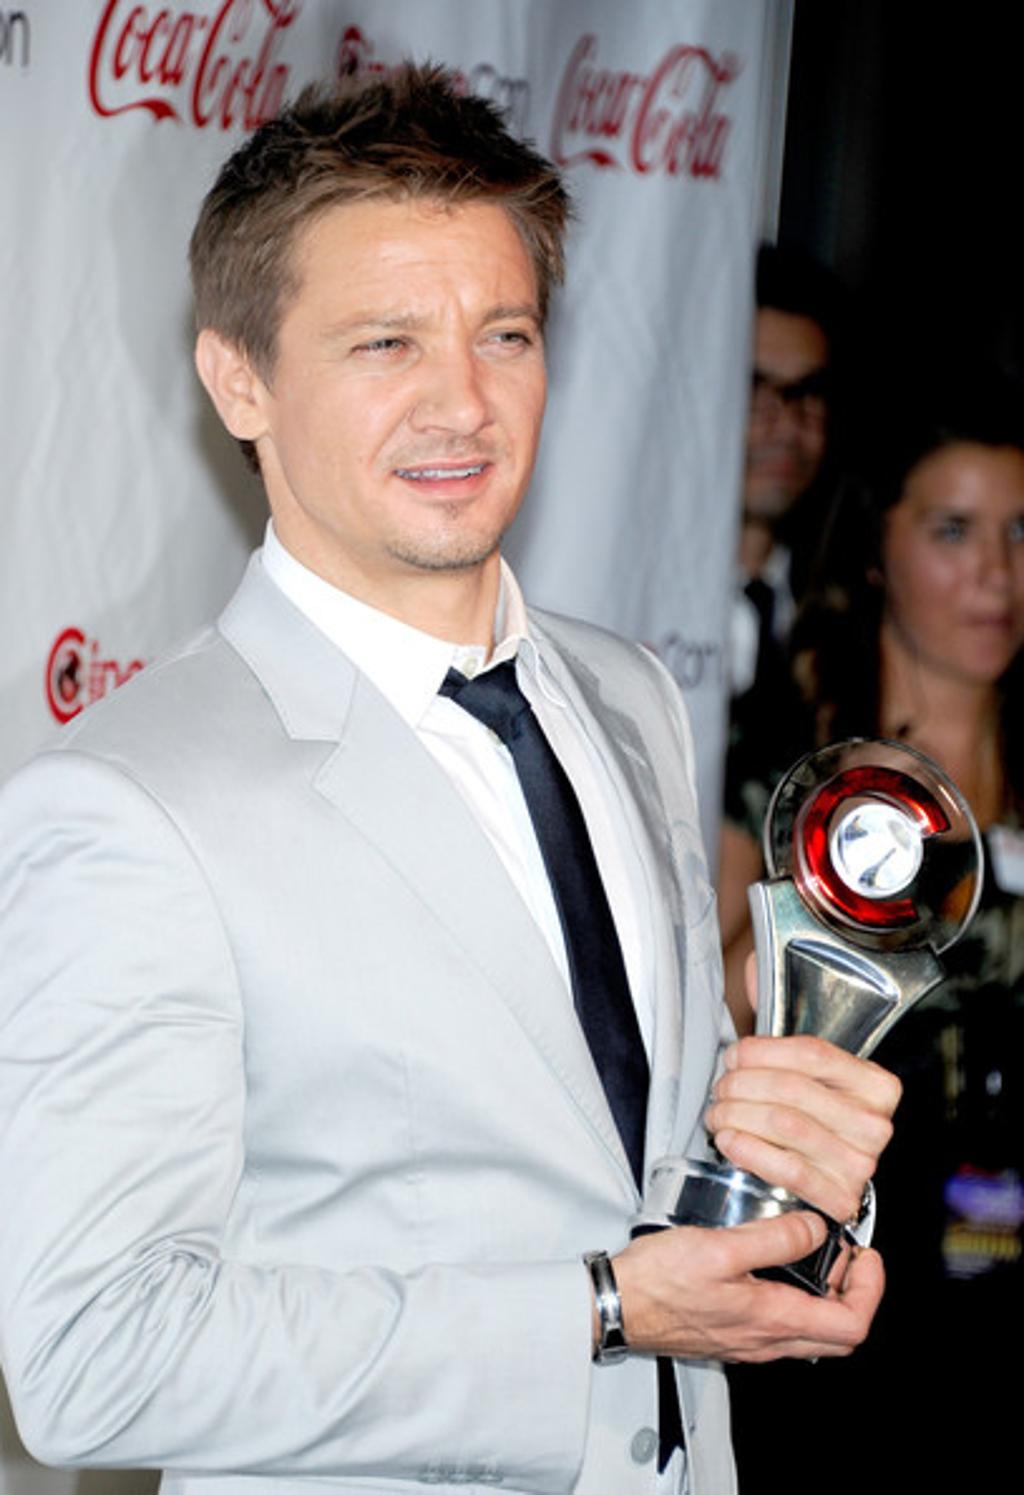face: (274, 172, 548, 557), (890, 449, 1021, 677), (721, 312, 832, 519)
